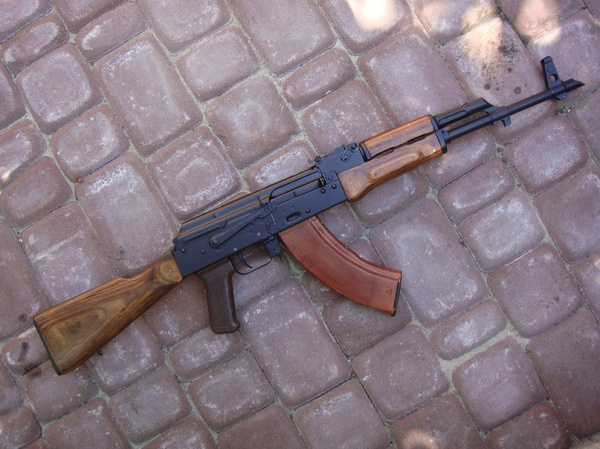ak47: (41, 57, 584, 374)
